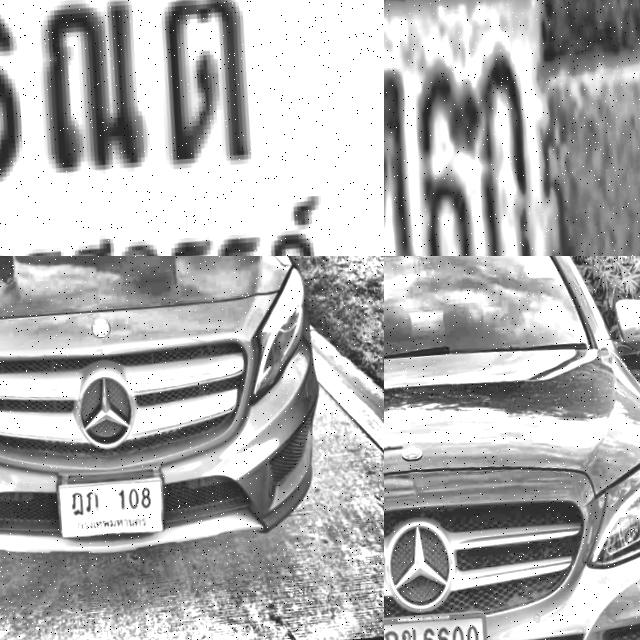license-plate: (0, 0, 384, 256), (384, 0, 609, 256), (54, 461, 170, 546), (384, 605, 496, 640)
